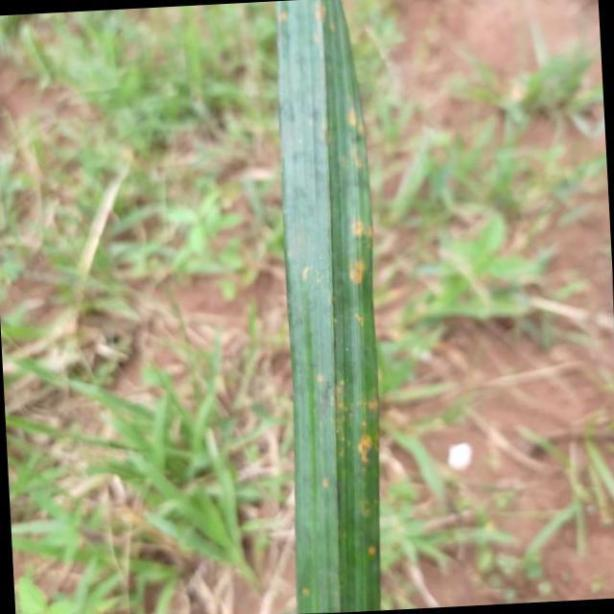Kalium: (277, 0, 385, 614)
